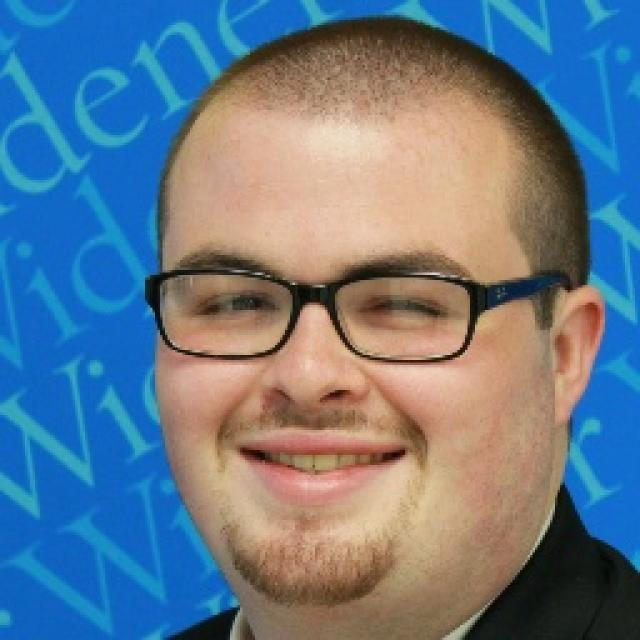earlobe: (547, 375, 581, 427)
eye: (192, 292, 277, 322), (356, 297, 443, 324)
nose: (254, 388, 369, 447)
wholeear: (548, 284, 606, 426)
